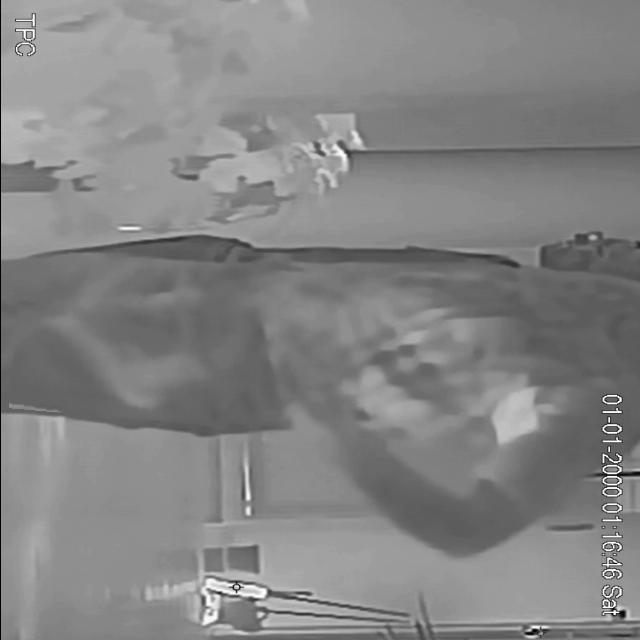Weapon: (10, 305, 235, 423)
